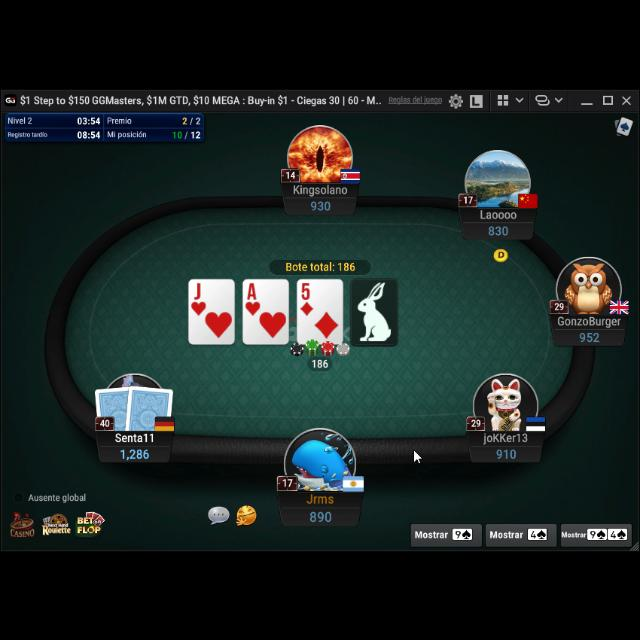4h: (244, 280, 262, 316)
5d: (298, 280, 316, 316)
Jh: (190, 281, 208, 317)
bet_text: (312, 358, 328, 368)
card_back: (124, 381, 176, 431), (94, 384, 136, 431)
dealer: (492, 245, 510, 261)
pot_text: (285, 259, 357, 271)
stack_text: (308, 507, 334, 523), (119, 446, 151, 458), (495, 444, 519, 458), (486, 221, 509, 235), (578, 328, 600, 342), (310, 196, 332, 210)
